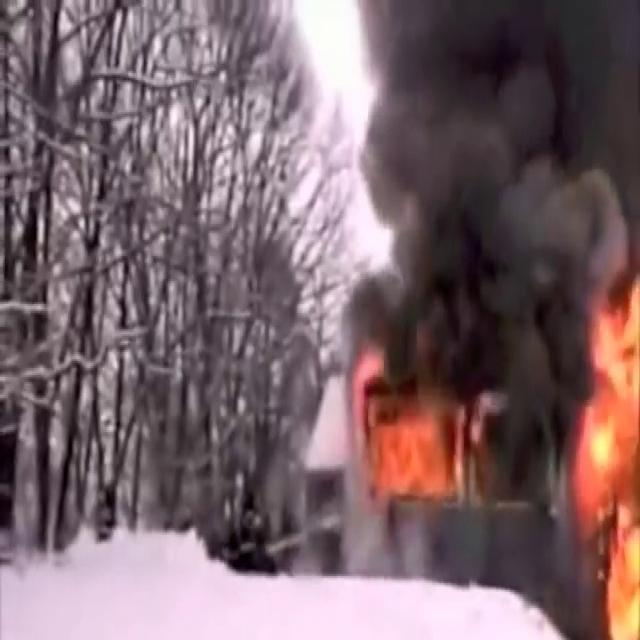Fire: (570, 257, 640, 638), (350, 364, 482, 520)
Smoke: (324, 0, 640, 384)
